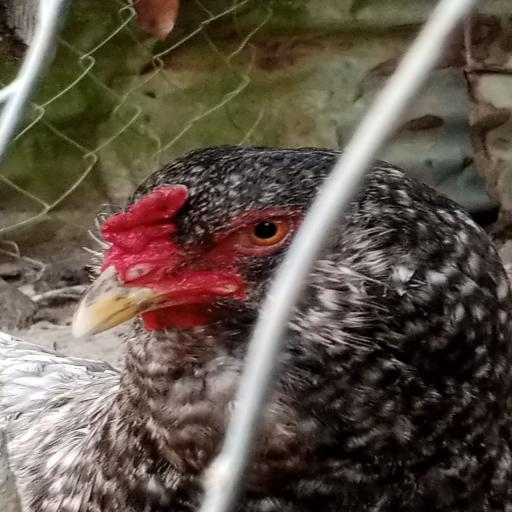healthy: (92, 180, 345, 303)
